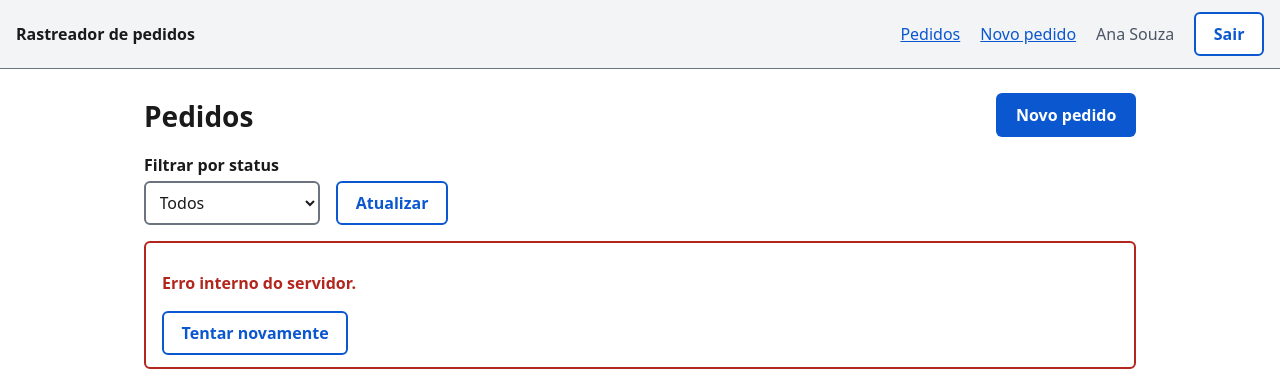
it: OrderListPage › erro: alerta com a mensagem e "Tentar novamente" recarrega
The width and height of the screenshot is (1280, 390).
Check: the heading "Pedidos" is shown, box [144,95,253,137]
Check: the message shows "Erro interno do servidor.", box [162,272,356,294]
Step 1. Click the button "Tentar novamente" → (255, 333), box [162,311,348,355]
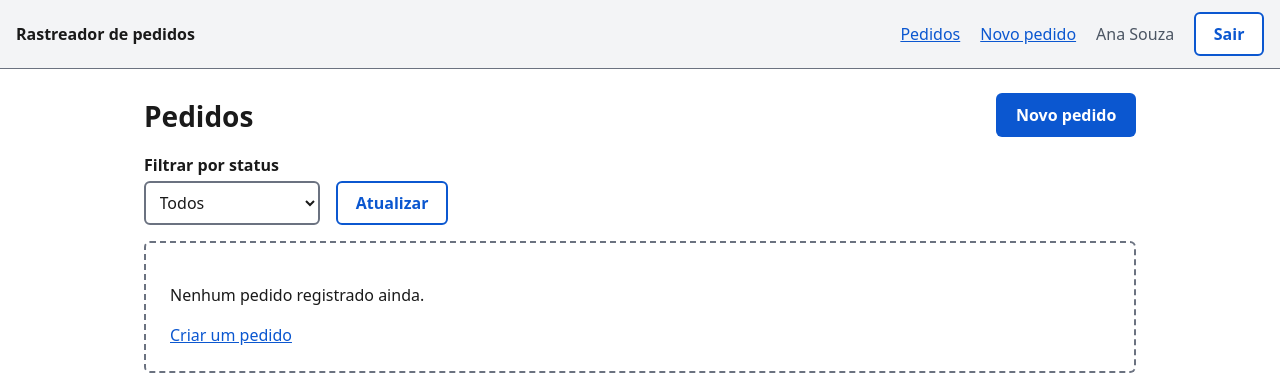
Check: the text "Nenhum pedido registrado ainda." is shown, box [170,284,424,306]
Check: the message "Erro interno do servidor. Tentar novamente" is gone
